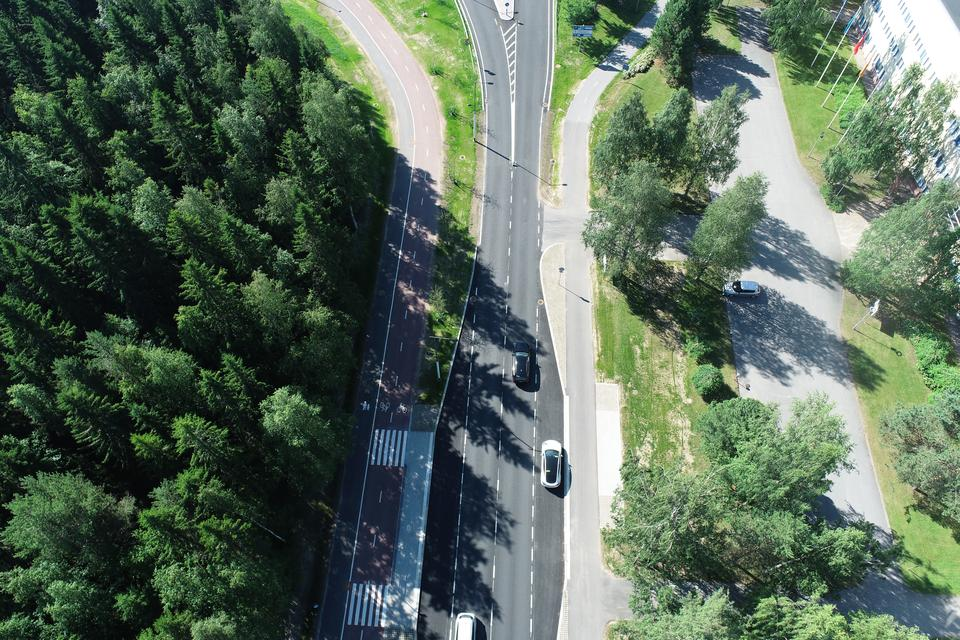intersection: (454, 187, 619, 269)
